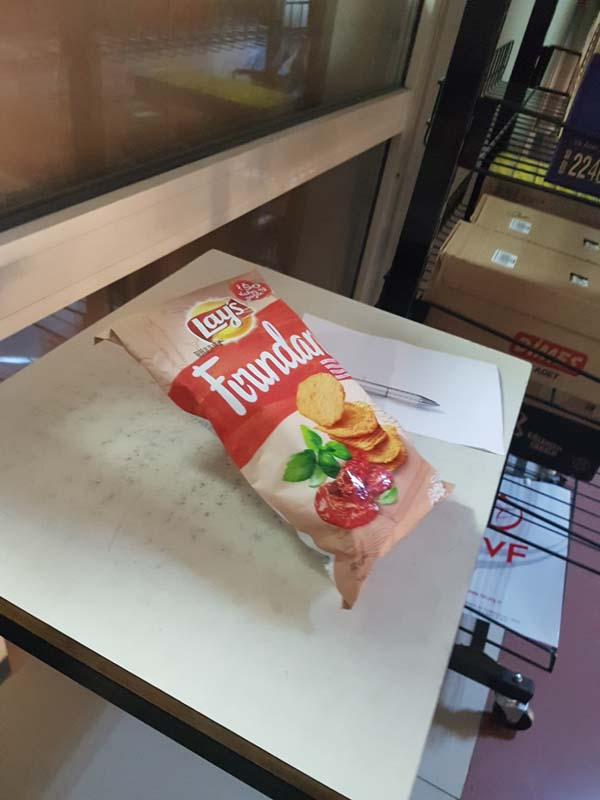laysfirindan: (114, 266, 460, 603)
